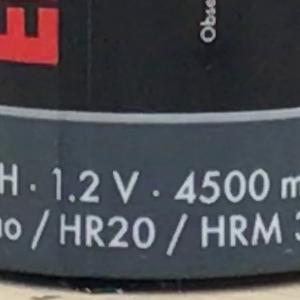keyword: (51, 208, 163, 255)
